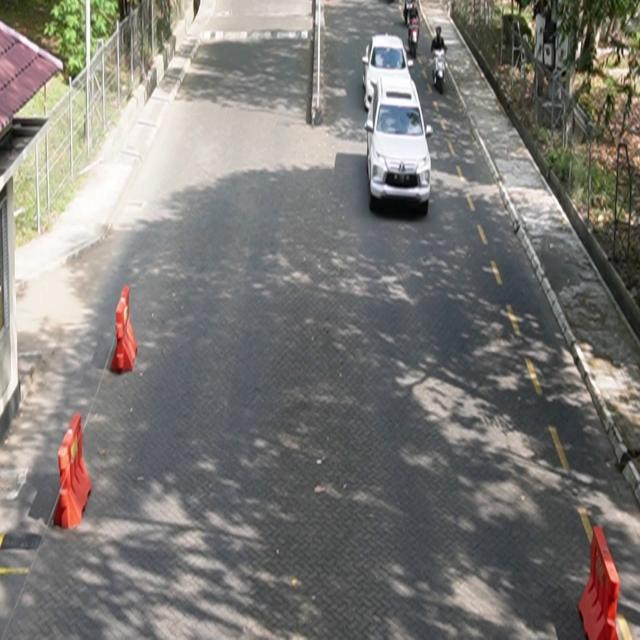car: (365, 73, 434, 216), (362, 34, 414, 113)
